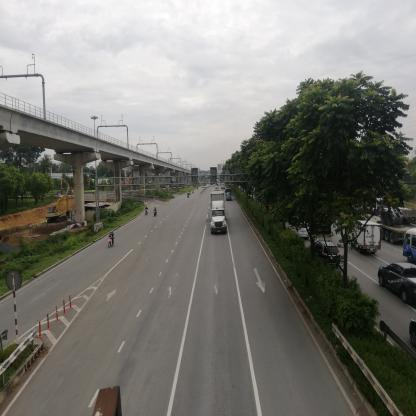car: (379, 260, 416, 307), (312, 240, 342, 268)
container: (209, 192, 229, 236)
motorbike: (109, 232, 118, 250), (153, 207, 159, 219), (146, 209, 149, 220)
truck: (351, 220, 382, 254), (226, 190, 234, 204)
